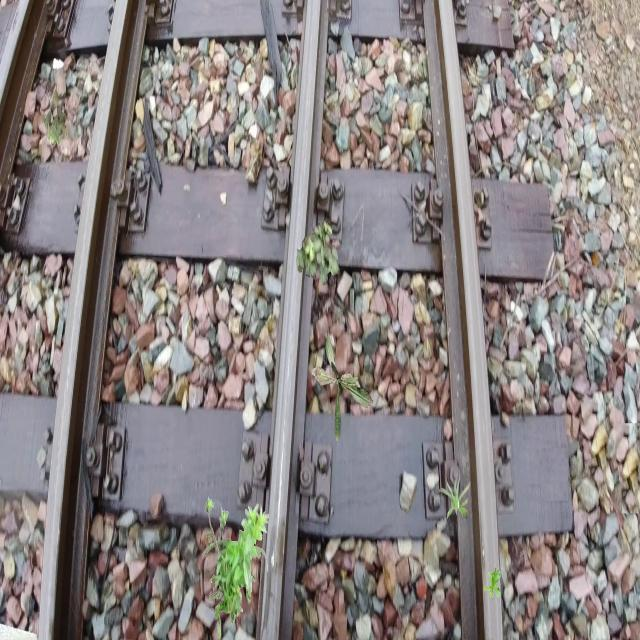Plant: (205, 496, 270, 640), (310, 330, 374, 442), (296, 219, 339, 286), (438, 474, 470, 520), (42, 106, 68, 148), (483, 568, 500, 600)
